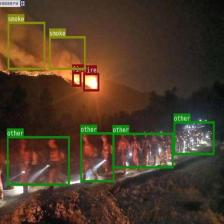fire: (83, 72, 99, 90), (72, 72, 81, 86)
smoke: (7, 21, 45, 70), (49, 36, 85, 69)
